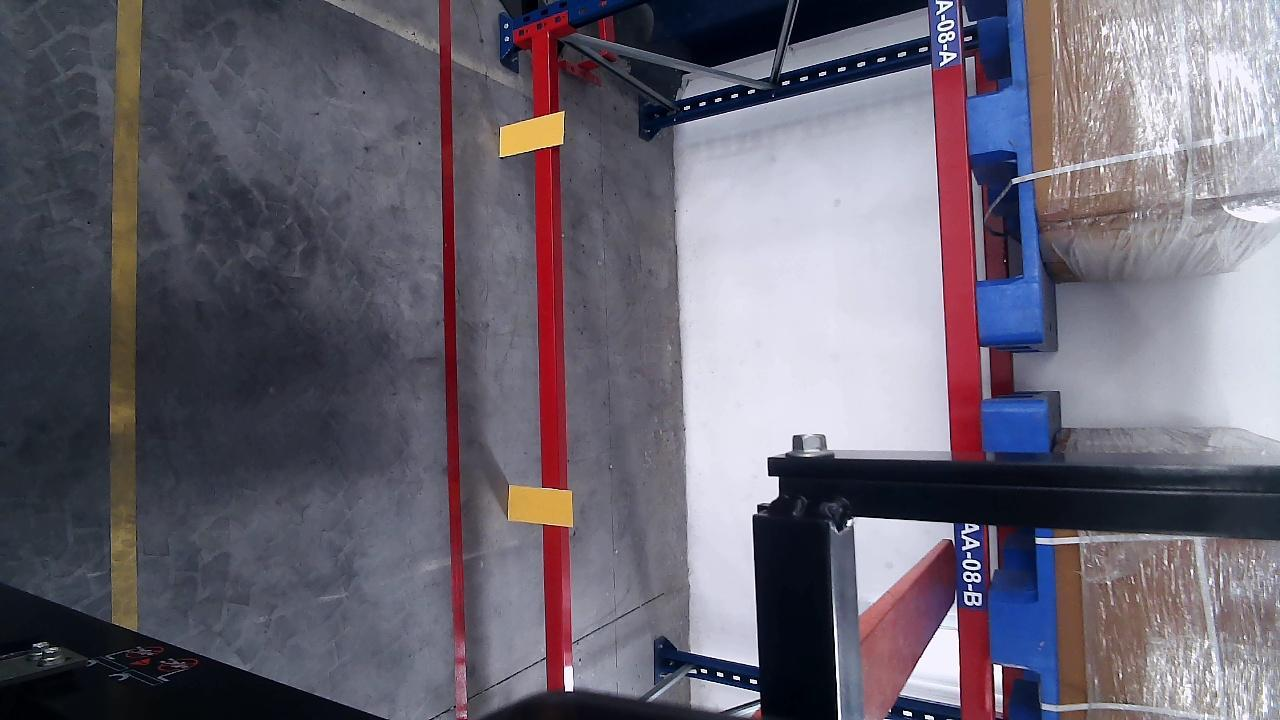h_rack: (929, 1, 993, 720), (526, 29, 570, 689)
orange_strip: (498, 111, 564, 158), (509, 484, 572, 525)
red_line: (437, 2, 471, 719)
small_pallet: (958, 1, 1043, 333), (979, 408, 1061, 720)
yellow_line: (110, 2, 141, 633)
